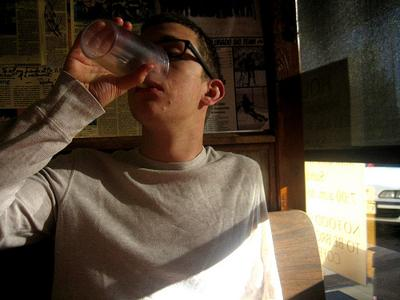person: (1, 12, 284, 300)
